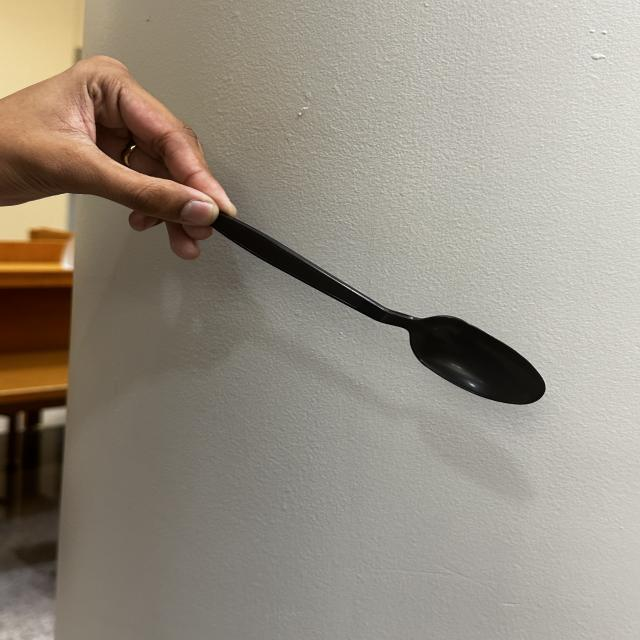spoon: (184, 183, 589, 430)
